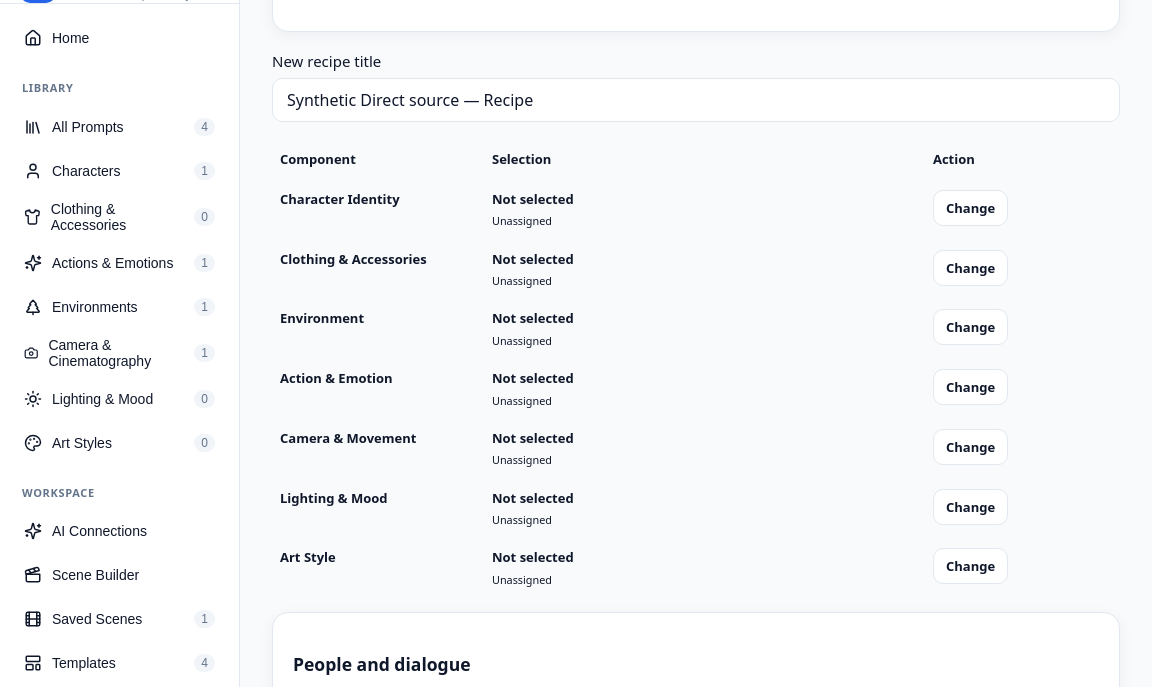
Test case: computes a real read-only assembled preview after selecting a component
(page scrolled)
Step 1. Click the button with aria-label "Change Environment" → (971, 327), box [933,309,1008,345]
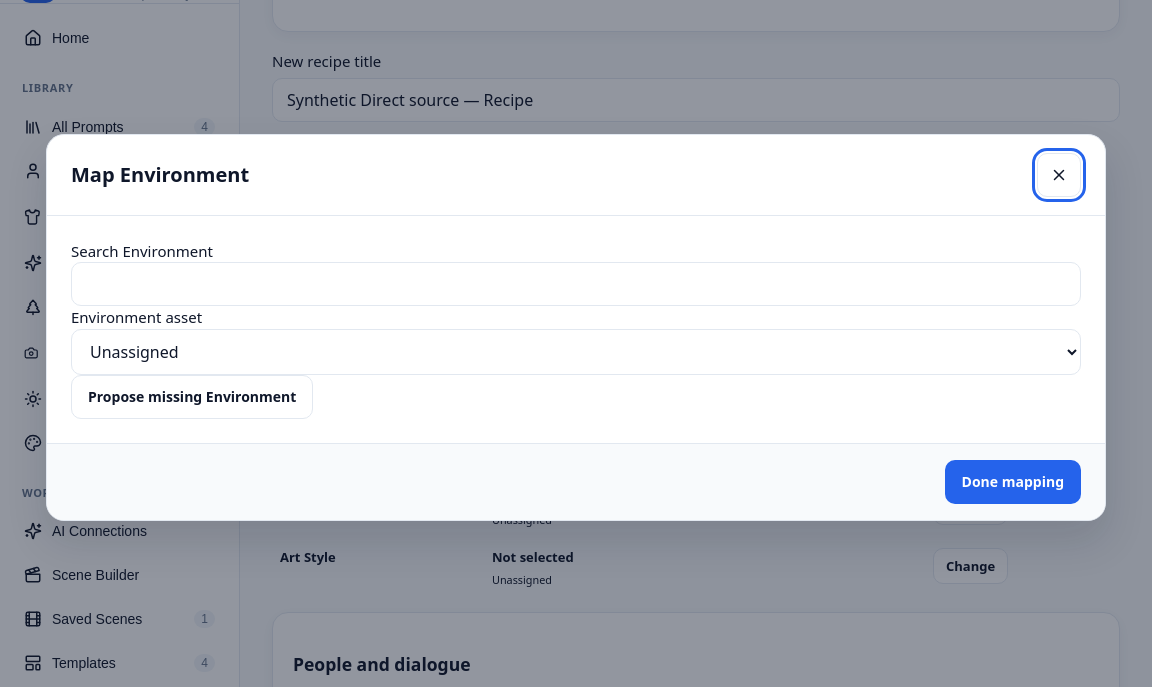
Step 2. Select "Synthetic Courtyard · rev 2" in the dropdown labelled "Environment asset" → (576, 352), box [71,328,1081,374]
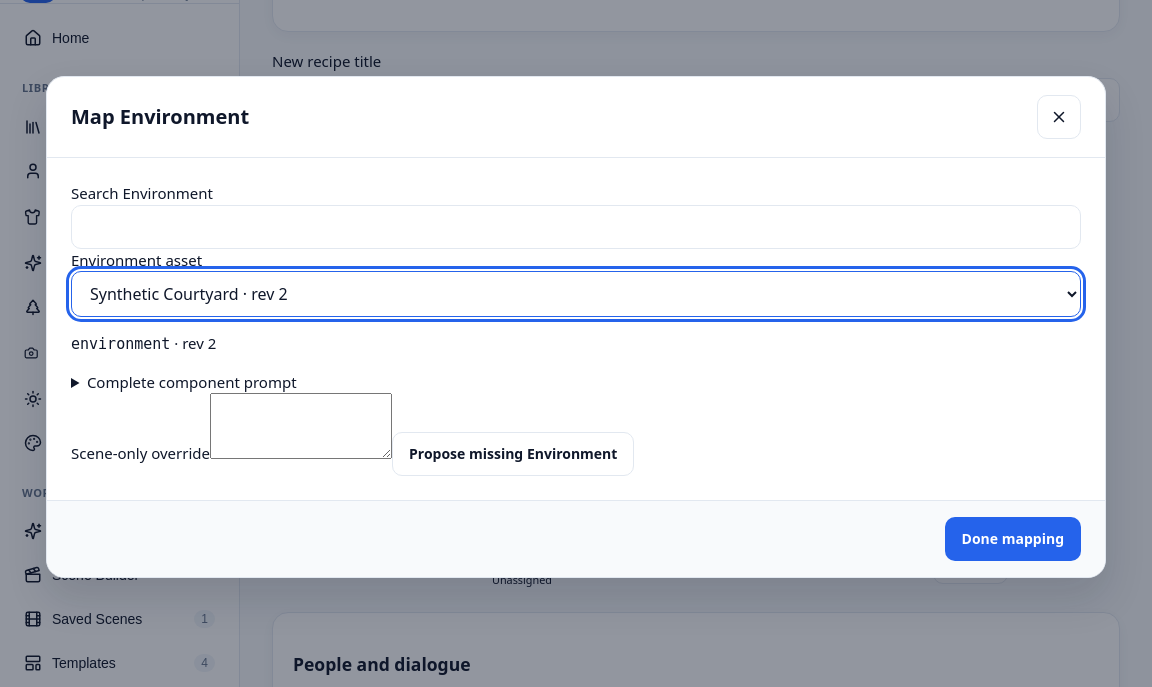
Step 3. Click the button "Done mapping" → (1013, 539), box [945,517,1081,561]
(page scrolled)
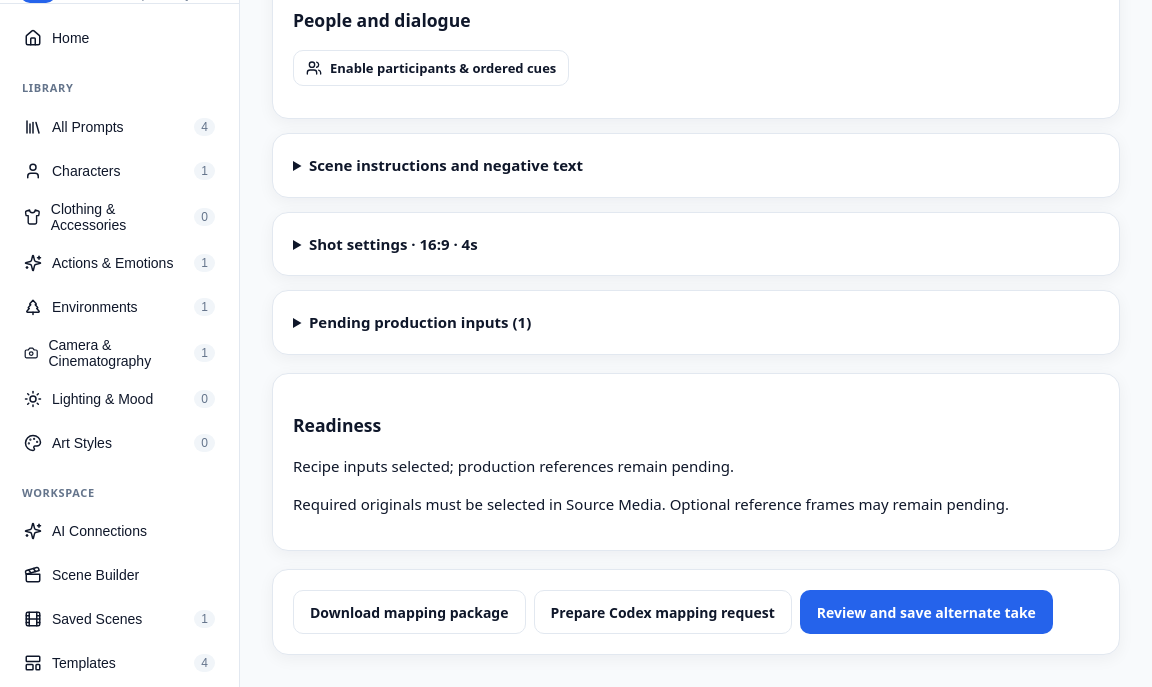
Check: the text "Recipe inputs selected; production references remain pending." is shown, box [293,456,734,476]
